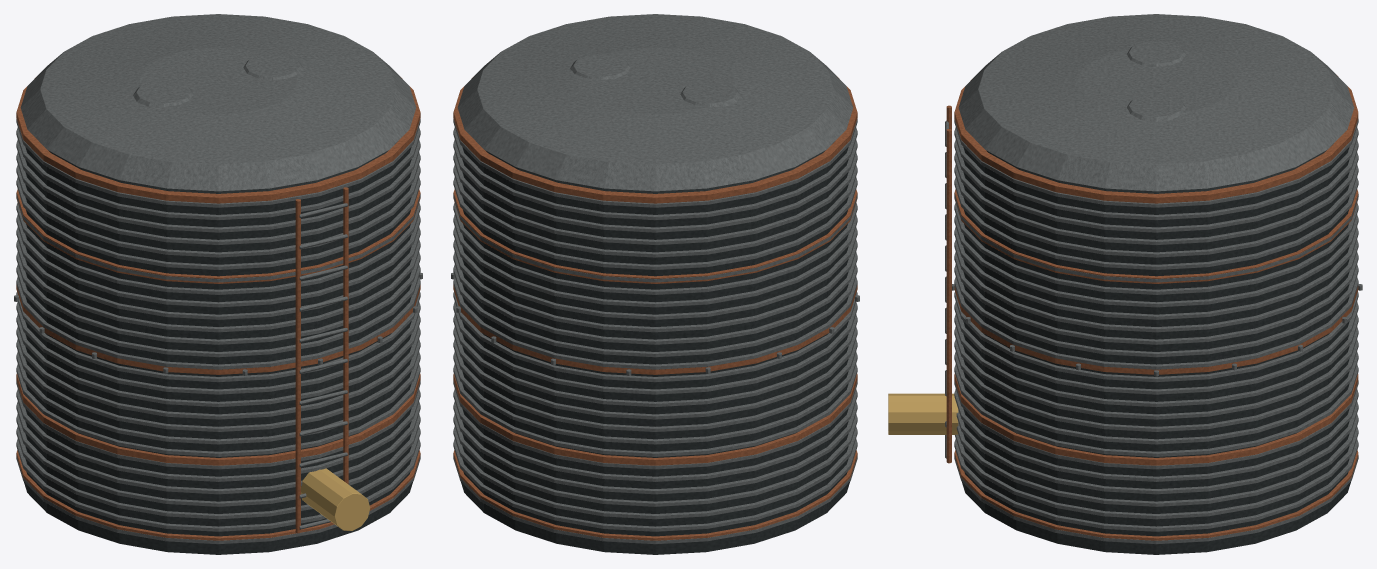
File: TANKSEP2_lod0.glb
The picture shows the model from 3 angles, left to right: view 1: azimuth 30°, elevation 25°; view 2: azimuth 150°, elevation 25°; view 3: azimuth 270°, elevation 25°; orthographic projection.
Parts seen in each view (by area): view 1: TANKSEP2_LOD0; view 2: TANKSEP2_LOD0; view 3: TANKSEP2_LOD0.
Boxes of the visible parts, x1,y1,x2,y2 form: TANKSEP2_LOD0: (14, 14, 422, 554); TANKSEP2_LOD0: (451, 14, 859, 554); TANKSEP2_LOD0: (888, 14, 1362, 554).
Size of the model in its own units: 3.6 by 3.78 by 4.14.
4 materials, 3 textured.
